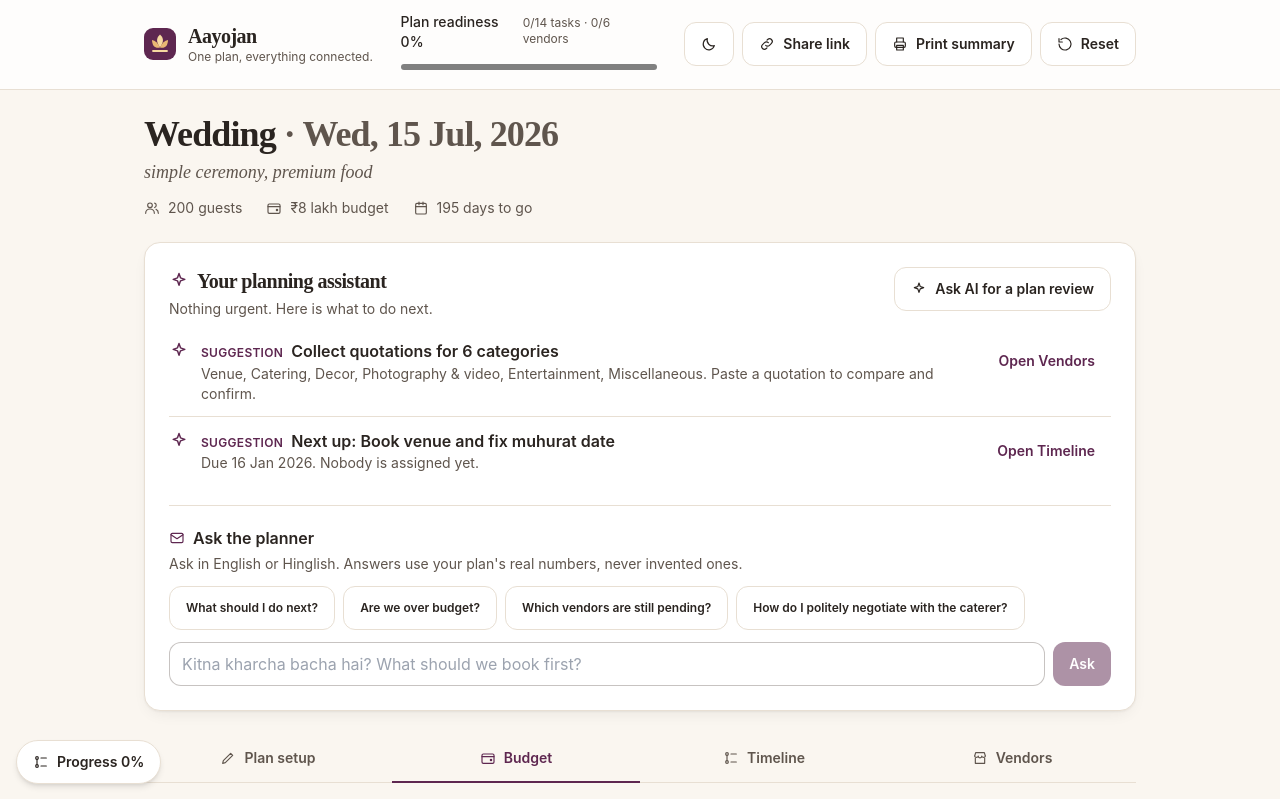
Test case: progress panel › opens from any tab, lists vendors and tasks, navigates and hides
Expected: the element "Plan progress" is not shown
Click the button "Progress 0%": {"x": 89, "y": 762} [16,740,161,784]
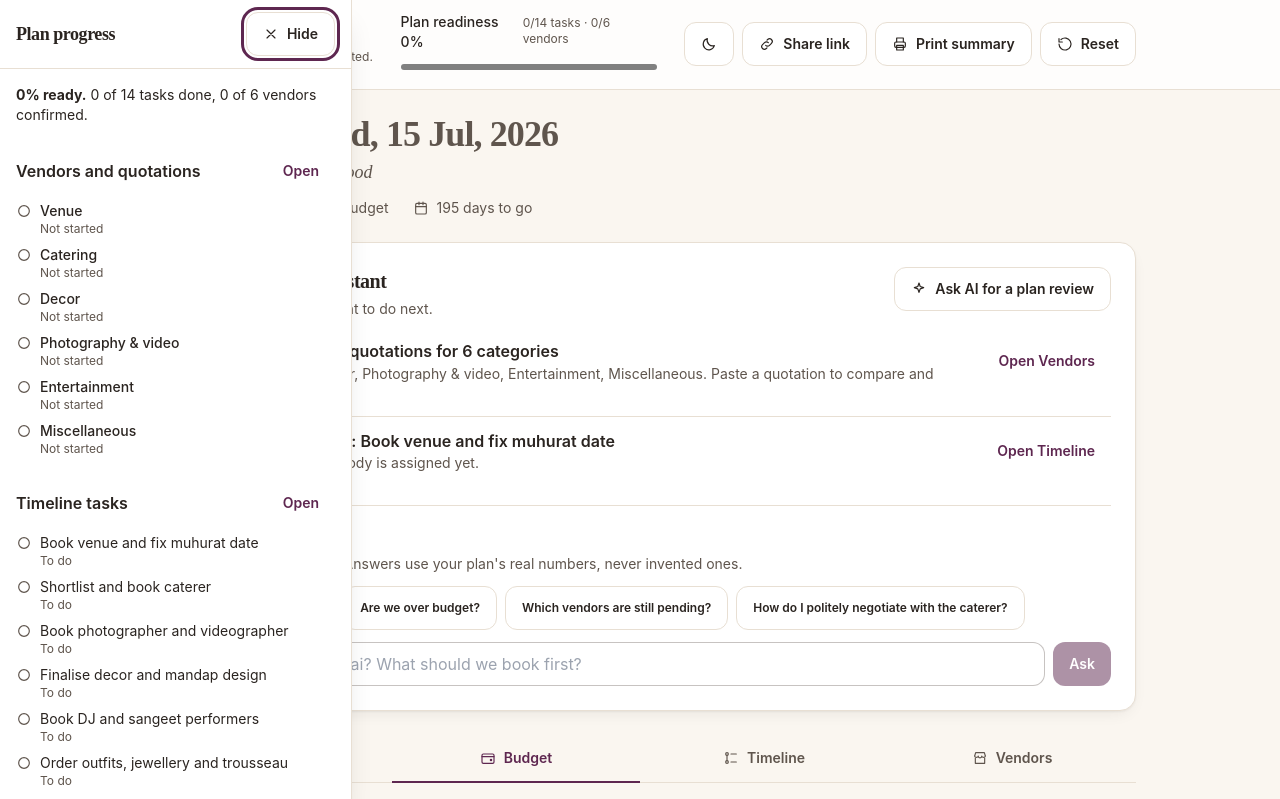
Result: the button "Progress 0%" is expanded at [16,740,161,784]
Result: the text "0% ready. 0 of 14 tasks done, 0 of 6 vendors confirmed." is shown at [16,85,335,125]
Result: the heading "Vendors and quotations" is shown at [16,159,200,183]
Click the button "Open" next to "Timeline tasks": {"x": 301, "y": 503} [267,481,335,525]
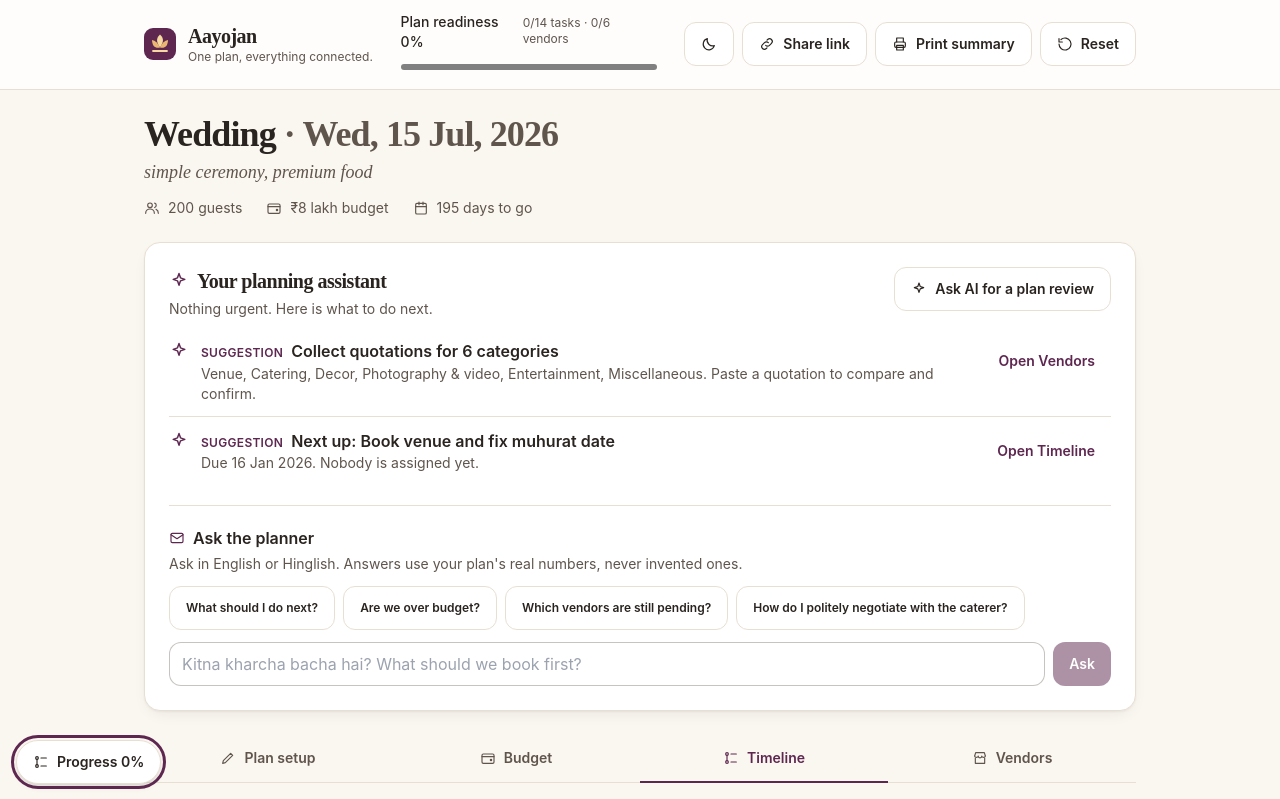
Result: the heading "Plan progress" is gone
Click the button "Progress 0%": {"x": 89, "y": 762} [16,740,161,784]
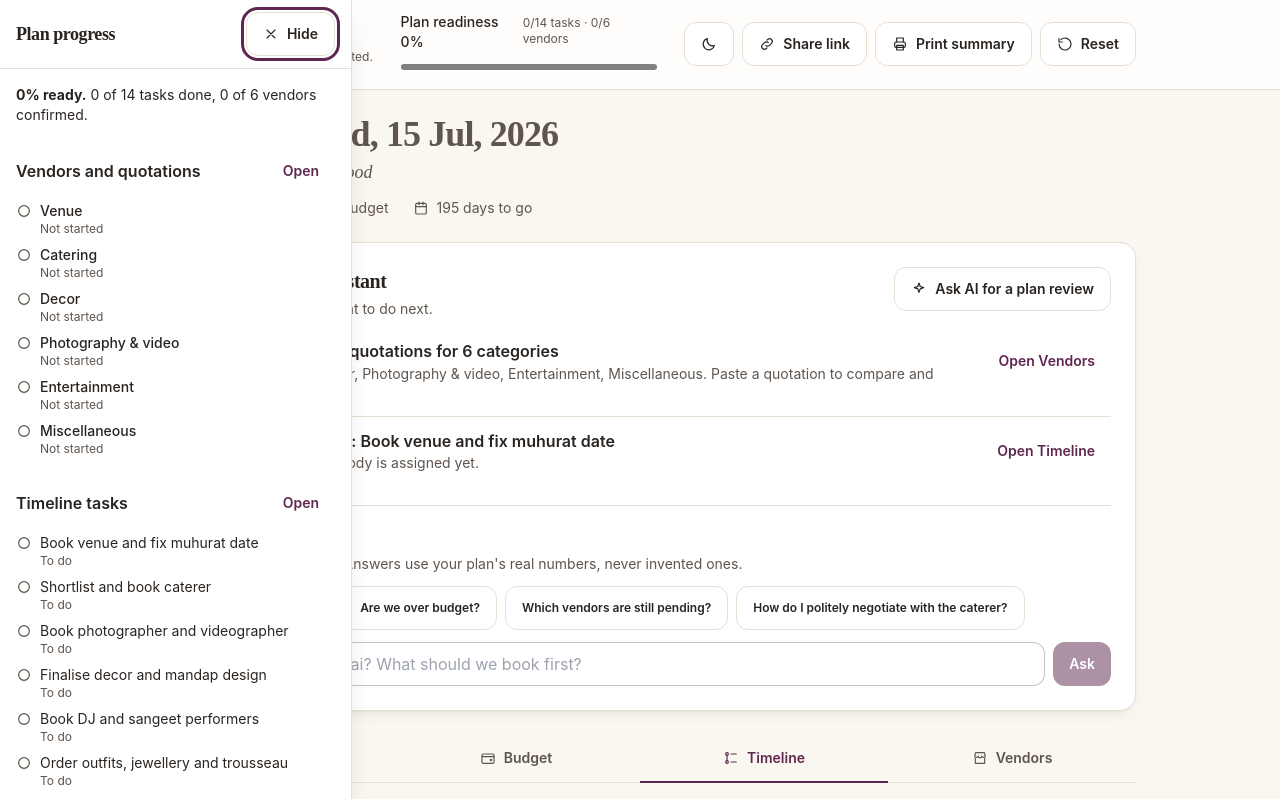
Click the button "Open" next to "Vendors and quotations": {"x": 301, "y": 171} [267,149,335,193]
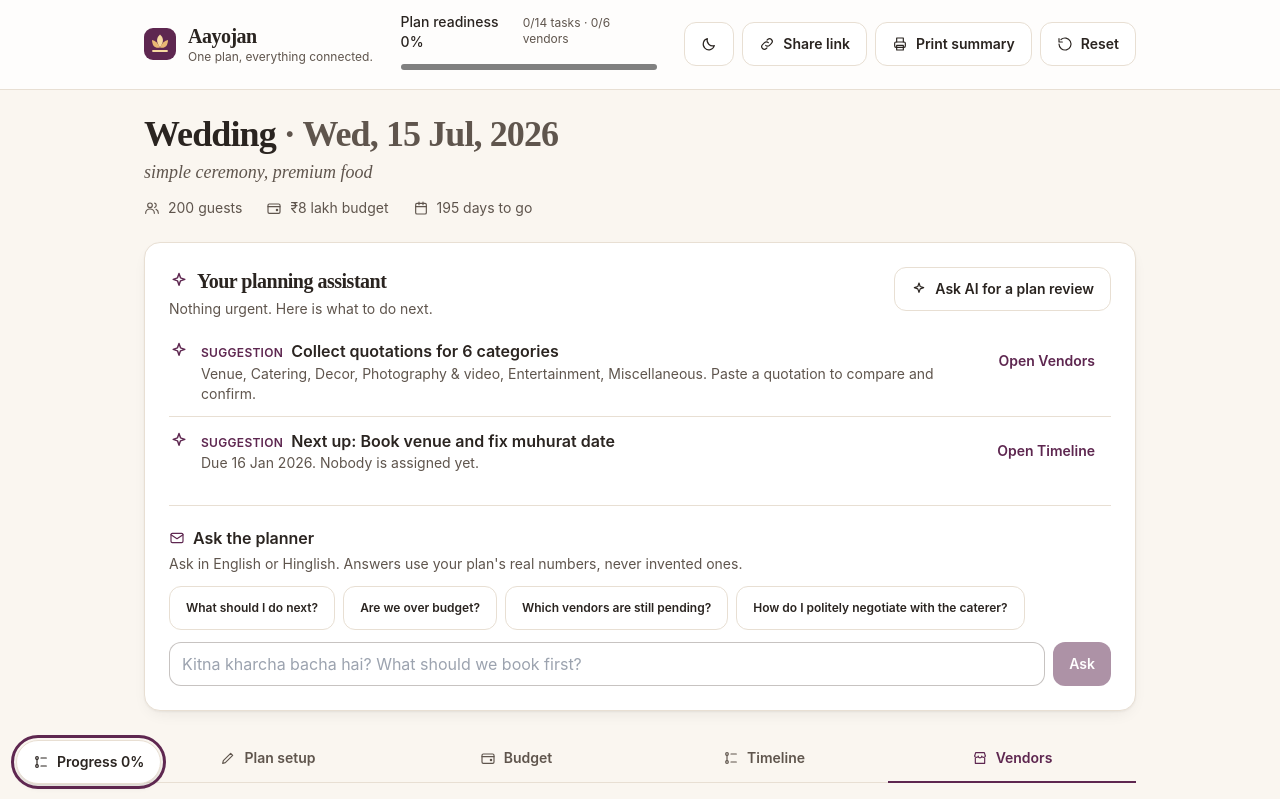
Result: the tab "Vendors" is selected at [888,735,1136,783]
Click the button "Progress 0%": {"x": 89, "y": 762} [16,740,161,784]
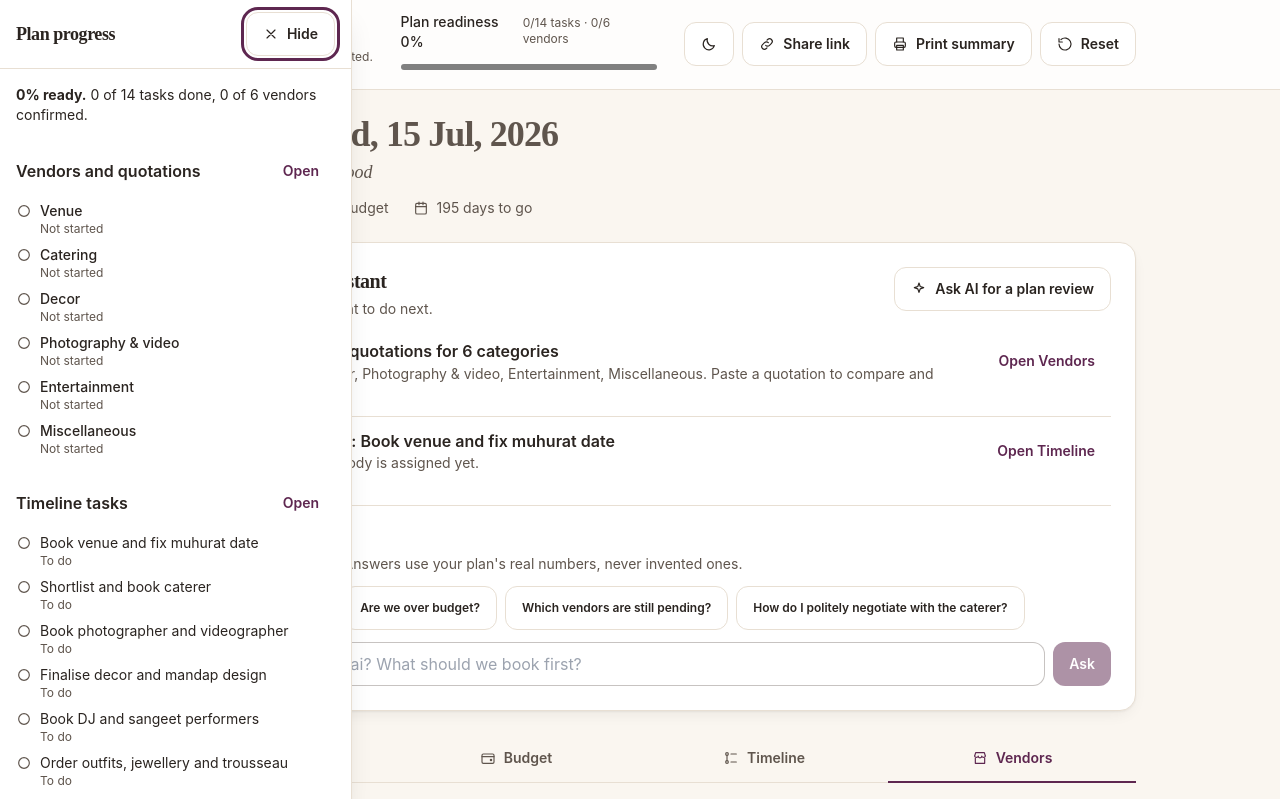
Press Escape
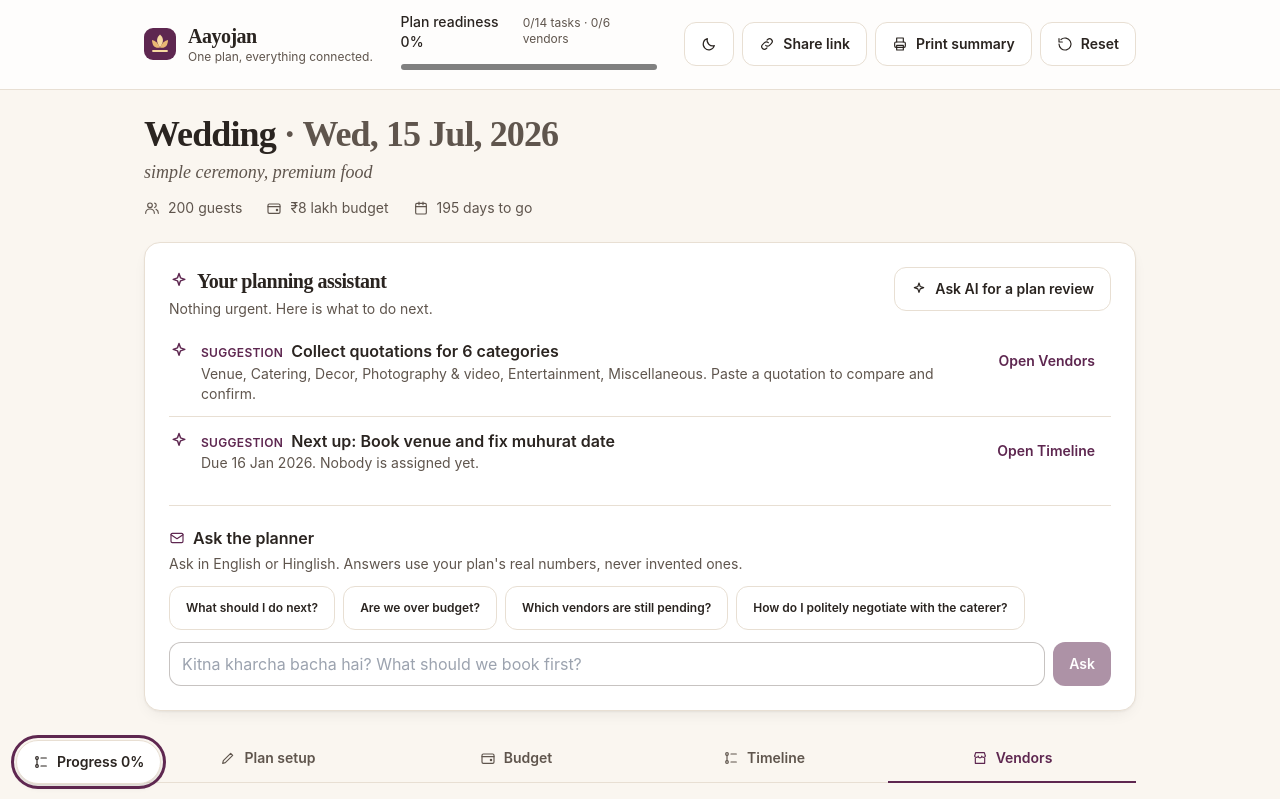
Result: the heading "Plan progress" is gone
